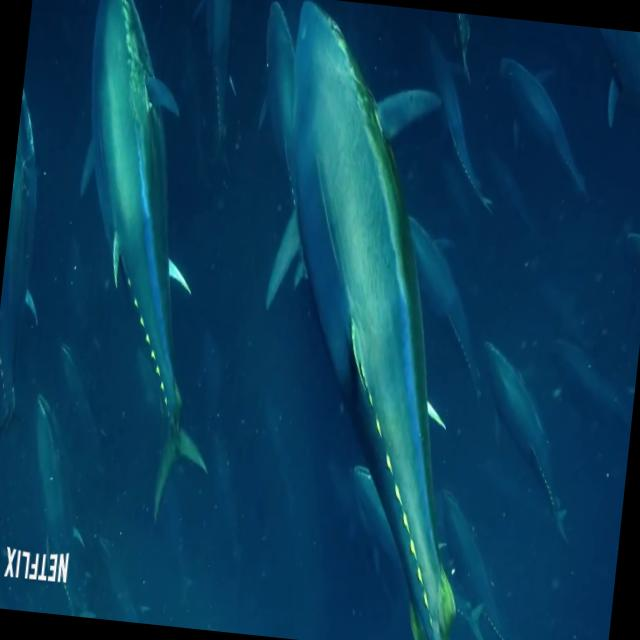fish: (233, 0, 517, 640), (46, 0, 259, 518), (466, 339, 587, 542), (385, 208, 500, 392), (409, 36, 508, 210), (486, 55, 604, 200)
